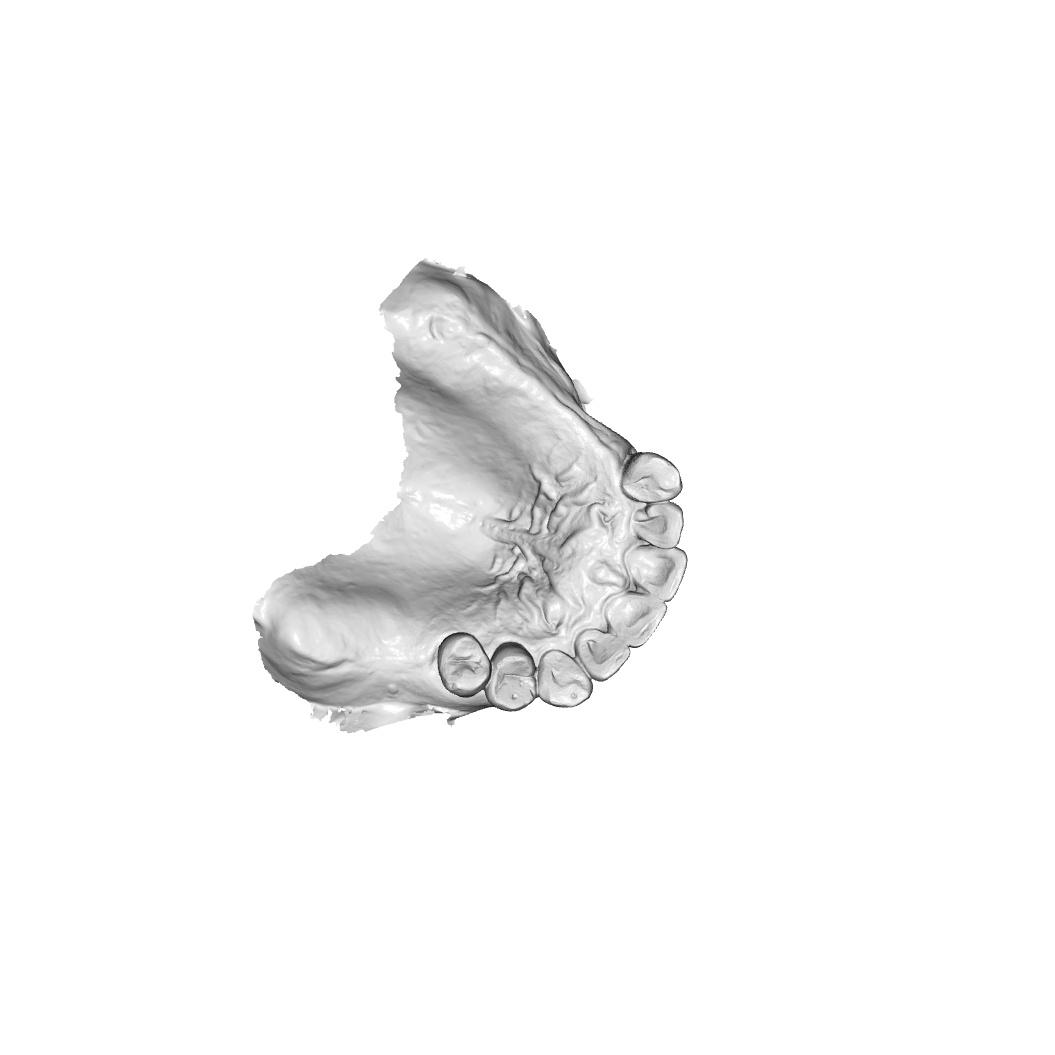canine: (619, 451, 685, 505), (536, 649, 595, 709)
incisor: (624, 544, 688, 603), (603, 592, 669, 649), (576, 627, 631, 683), (631, 500, 685, 550)
premolar: (484, 641, 539, 713), (436, 630, 493, 699)
